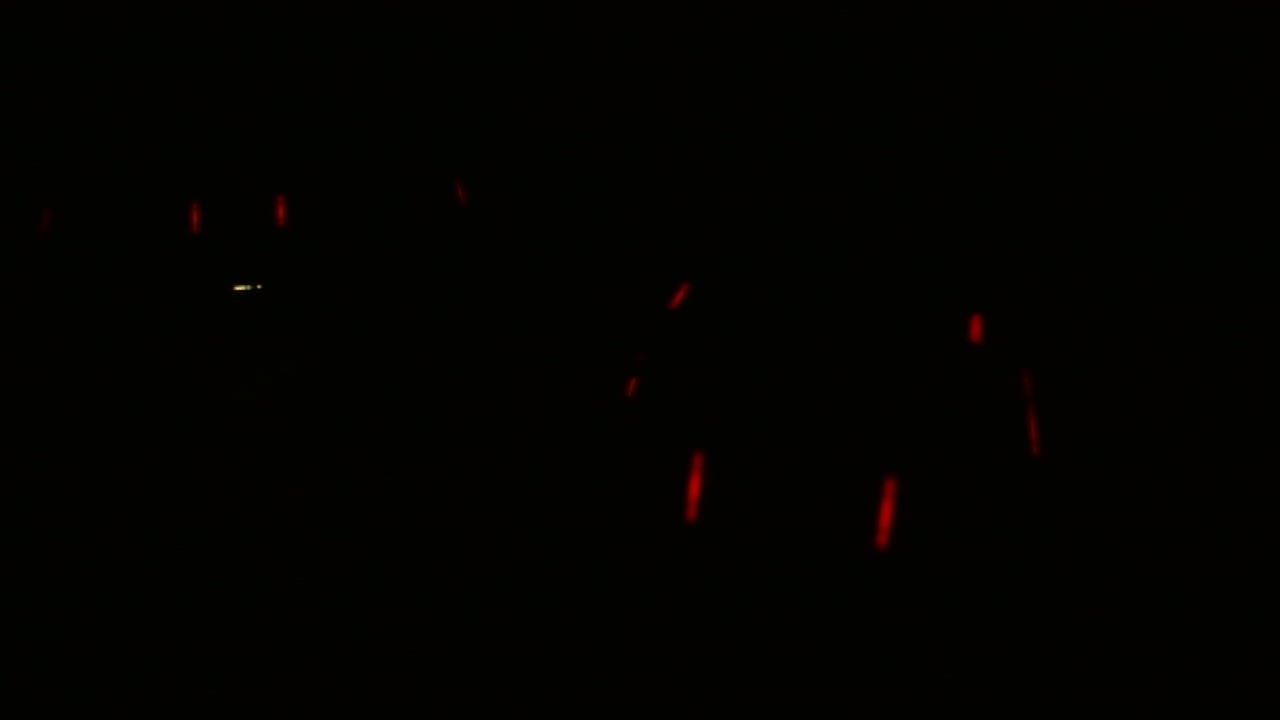pair1: (180, 182, 300, 248)
pair2: (667, 439, 905, 555)
